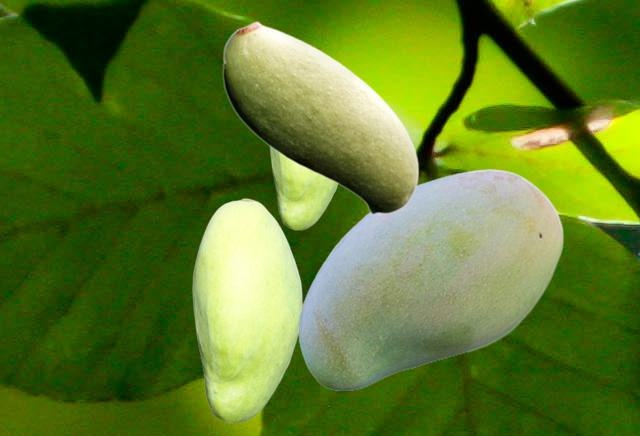green_mango: (298, 169, 563, 389), (222, 20, 418, 214), (192, 198, 301, 422), (269, 147, 337, 229)
